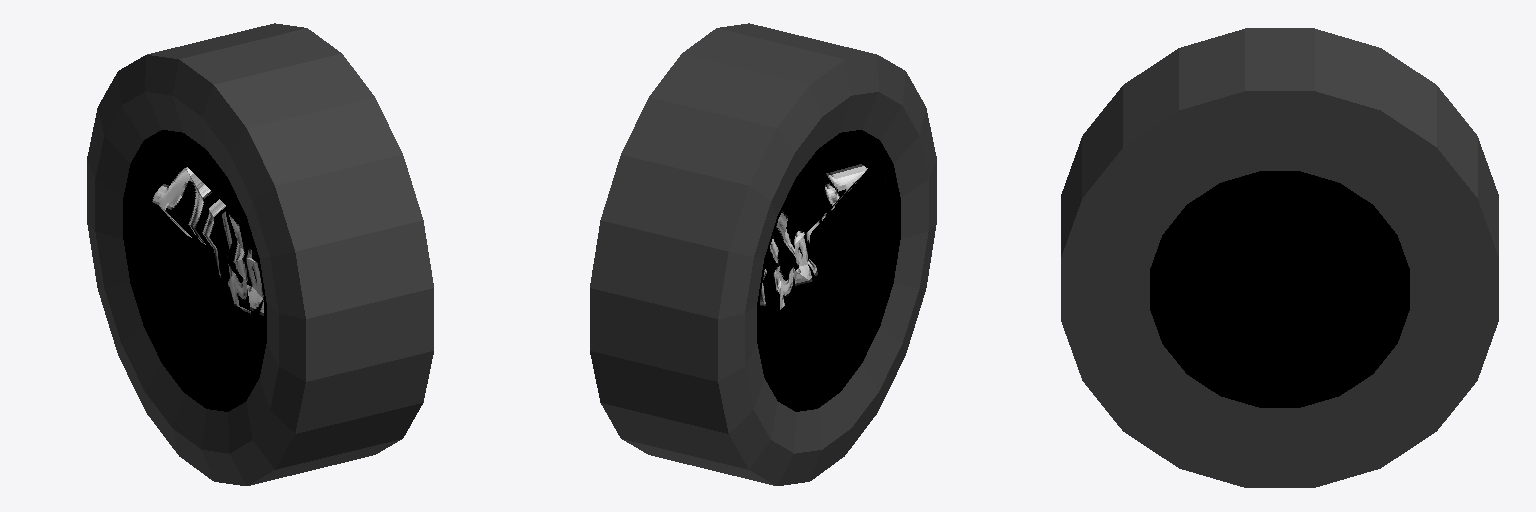
The picture shows the model from 3 angles: view 1: azimuth 30°, elevation 25°; view 2: azimuth 150°, elevation 25°; view 3: azimuth 270°, elevation 25°; orthographic projection.
Parts seen in each view (by area): view 1: submesh1, submesh0; view 2: submesh1, submesh0; view 3: submesh1, submesh2, submesh0.
Boxes of the visible parts, x1,y1,x2,y2 form: submesh1: [87, 23, 433, 485]; submesh0: [123, 130, 266, 411]; submesh1: [590, 23, 936, 485]; submesh0: [757, 130, 900, 411]; submesh1: [1061, 28, 1498, 487]; submesh2: [1150, 171, 1409, 387]; submesh0: [1150, 291, 1409, 407].
Bounding box in the file's own units: 0.2466 × 0.68 × 0.68.
3 materials, 1 textured.